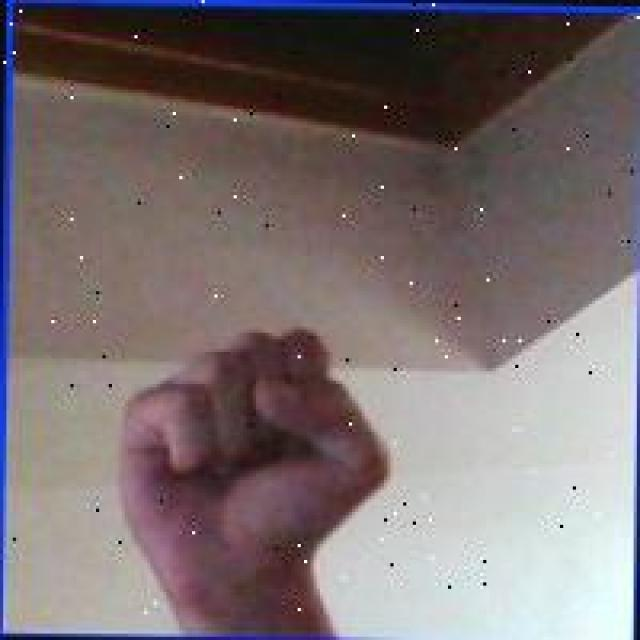S: (105, 317, 394, 592)
